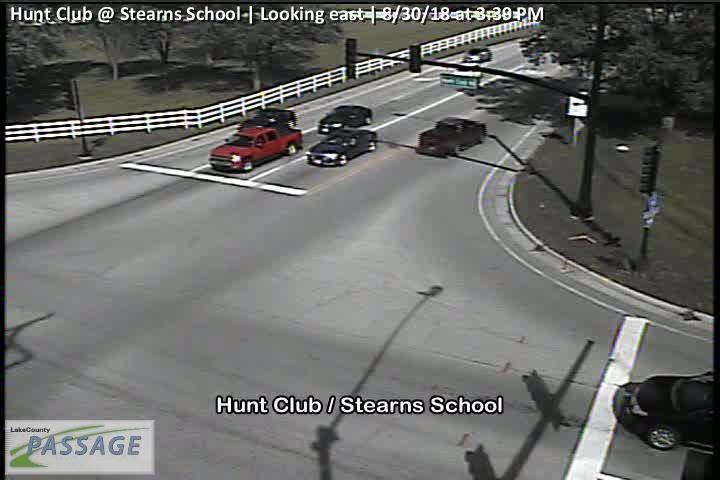Sedan: (611, 373, 715, 456), (306, 129, 377, 166), (316, 104, 372, 132), (238, 107, 296, 130)
Truck: (208, 126, 303, 172), (416, 117, 487, 157)
